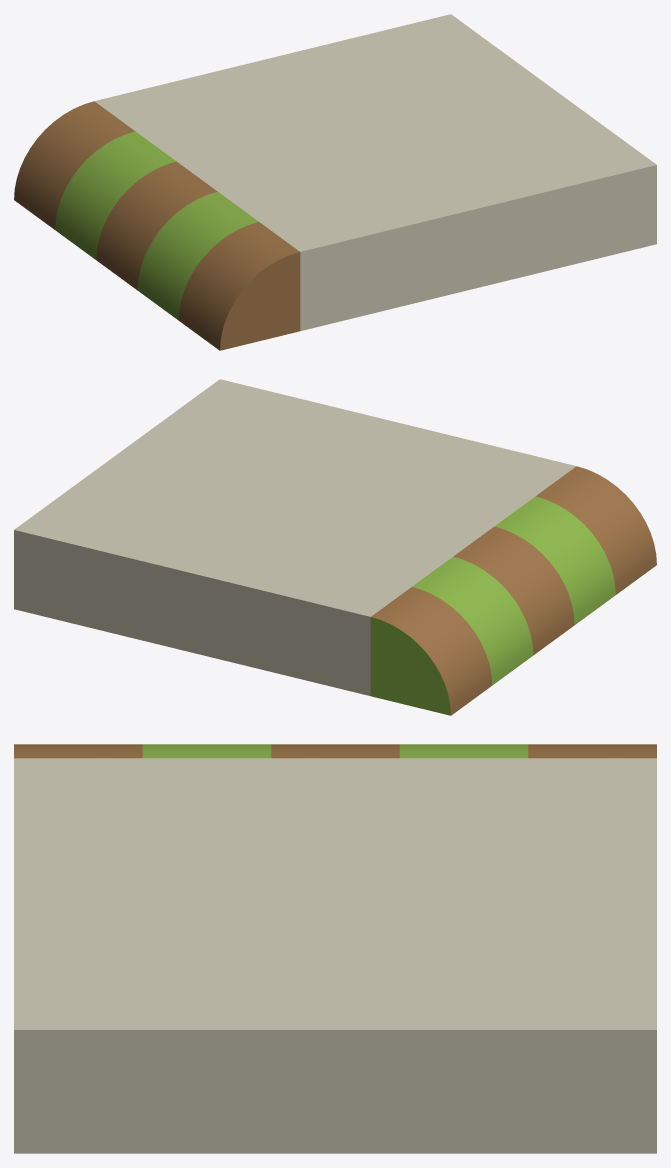
The model's file is basement_between.obj.
The picture shows the model from 3 angles, top to bottom: view 1: azimuth 30°, elevation 25°; view 2: azimuth 150°, elevation 25°; view 3: azimuth 270°, elevation 25°; orthographic projection. The views are drawn at different scales.
Parts seen in each view (by area): view 1: basement_between; view 2: basement_between; view 3: basement_between.
Part boxes in pixels (bbox=[...]): basement_between: bbox=[14, 14, 656, 350]; basement_between: bbox=[14, 379, 656, 715]; basement_between: bbox=[14, 744, 656, 1153].
Size of the model in its own units: 1.23 by 0.2125 by 1.
